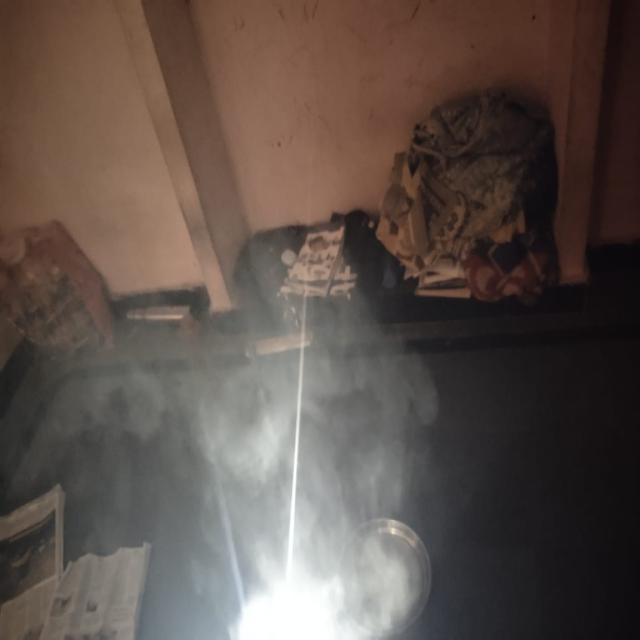smoke: (187, 421, 403, 640)
